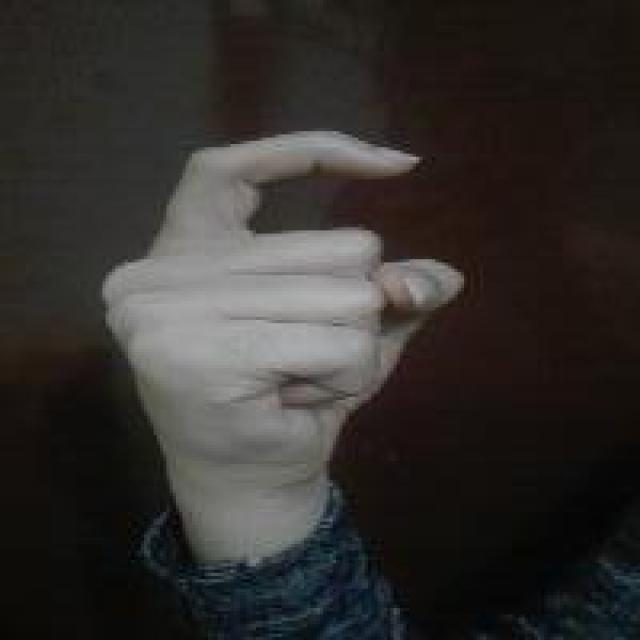X: (93, 120, 470, 520)
